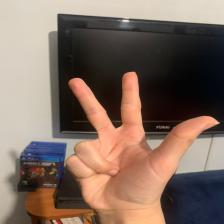three: (61, 72, 220, 205)
